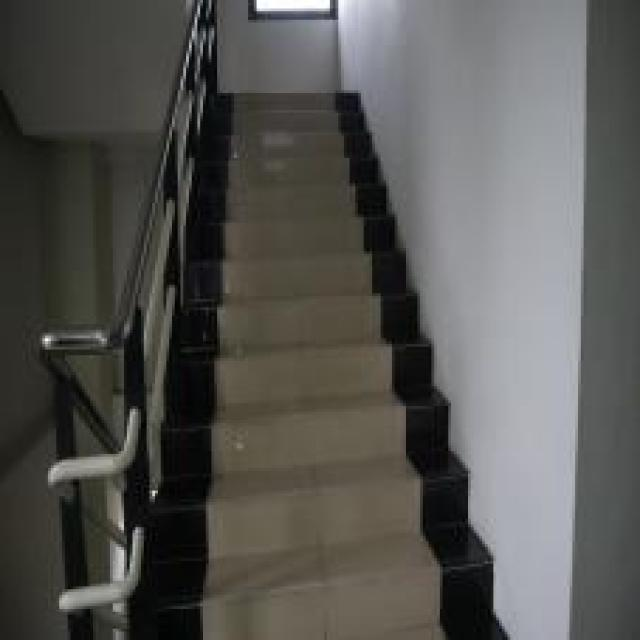upstair: (199, 114, 430, 638)
